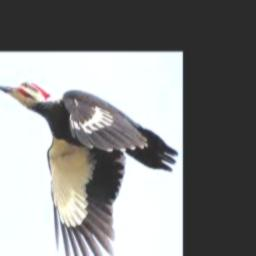Woodpecker: (0, 81, 179, 256)
